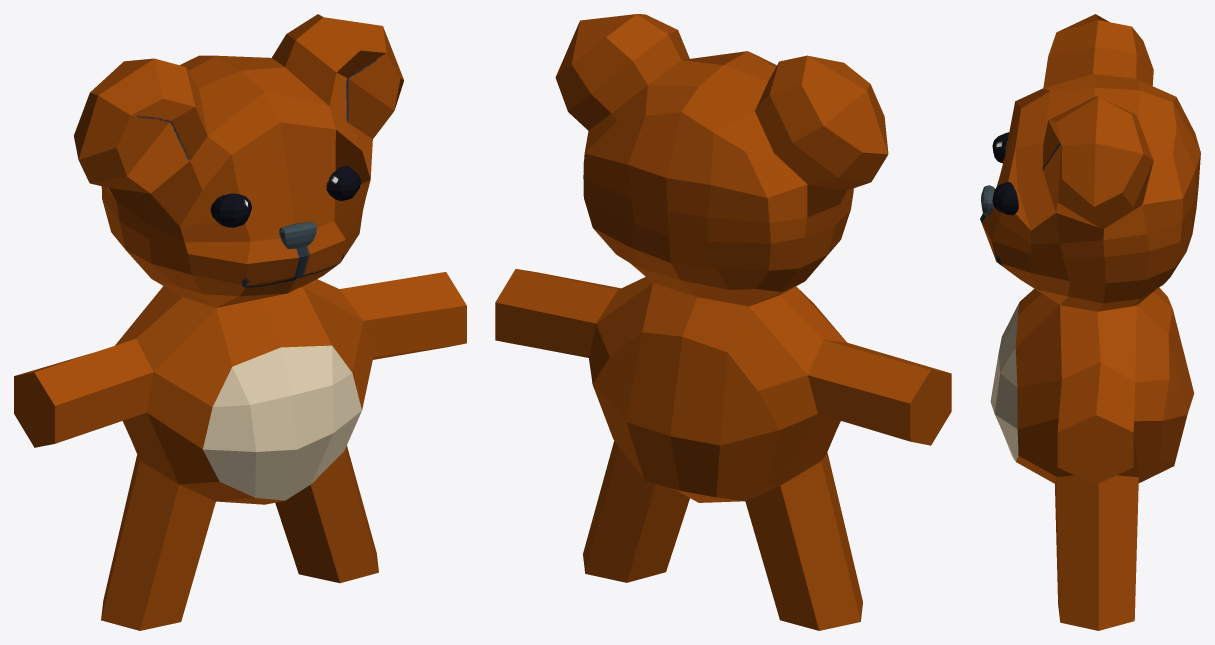
Rendered from Bobo.obj.
3 views of the same model, side by side, from view 1: azimuth 30°, elevation 25°; view 2: azimuth 150°, elevation 25°; view 3: azimuth 270°, elevation 25° (orthographic). The views are drawn at different scales.
Parts seen in each view (by area): view 1: Teddy_Bear.001_Cube.004; view 2: Teddy_Bear.001_Cube.004; view 3: Teddy_Bear.001_Cube.004.
Boxes of the visible parts, left/top/right/bottom form: Teddy_Bear.001_Cube.004: left=14, top=14, right=466, bottom=630; Teddy_Bear.001_Cube.004: left=495, top=14, right=951, bottom=630; Teddy_Bear.001_Cube.004: left=980, top=14, right=1200, bottom=630.
Bounding box in the file's own units: 0.2749 × 0.35 × 0.1374.
